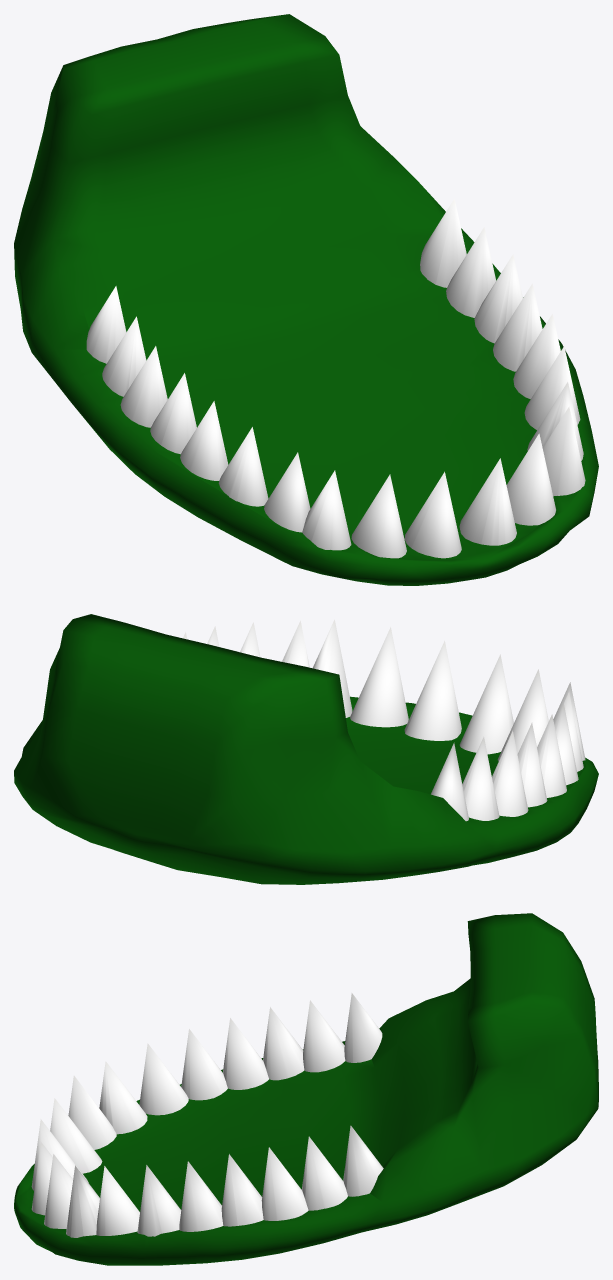
Rendered from jaw.obj.
3 renders of one model, top to bottom at view 1: azimuth 30°, elevation 25°; view 2: azimuth 150°, elevation 25°; view 3: azimuth 270°, elevation 25°, orthographic. The views are drawn at different scales.
Parts seen in each view (by area): view 1: polySurface852; view 2: polySurface852; view 3: polySurface852.
Boxes of the visible parts, x1=… form: polySurface852: x1=14, y1=14, x2=598, y2=585; polySurface852: x1=14, y1=614, x2=598, y2=884; polySurface852: x1=14, y1=913, x2=598, y2=1265.
Bounding box in the file's own units: 4.51 × 3.14 × 6.13.
Materials: 1 (1 with a texture image).
